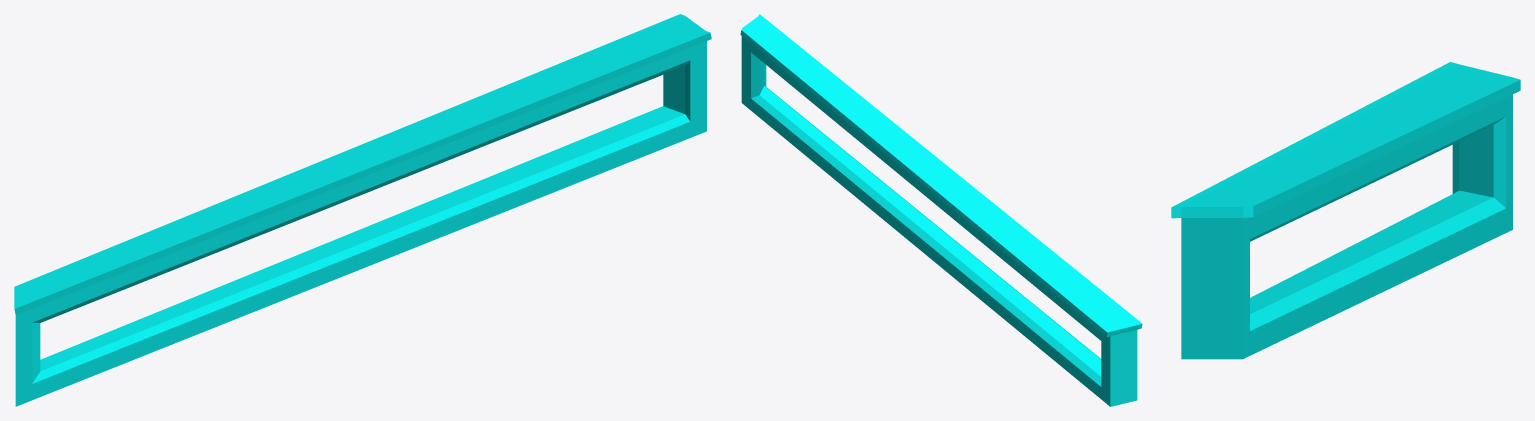
Rendered from InsideFenceDiagonalPiece.FBX.
The picture shows the model from 3 angles, left to right: view 1: azimuth 30°, elevation 25°; view 2: azimuth 150°, elevation 25°; view 3: azimuth 270°, elevation 25°; orthographic projection. The views are drawn at different scales.
Parts seen in each view (by area): view 1: InsideFenceDiagonalSection; view 2: InsideFenceDiagonalSection; view 3: InsideFenceDiagonalSection.
Boxes of the visible parts, bbox=[...] form: InsideFenceDiagonalSection: bbox=[14, 14, 711, 406]; InsideFenceDiagonalSection: bbox=[740, 14, 1142, 406]; InsideFenceDiagonalSection: bbox=[1171, 62, 1520, 359].
Bounding box in the file's own units: 1009 × 337 × 476.
